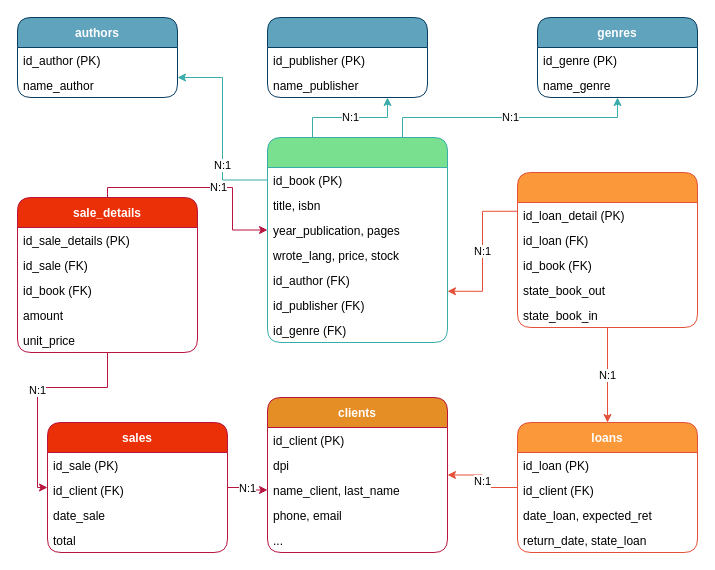
Image size: 715x570. Some labels were removed from this diagram. Here are the shapes that lost their labels. From the top down, the box of each, then its label:
(266, 16, 428, 98): publishers
(266, 136, 448, 342): books
(516, 172, 698, 328): loan_details
